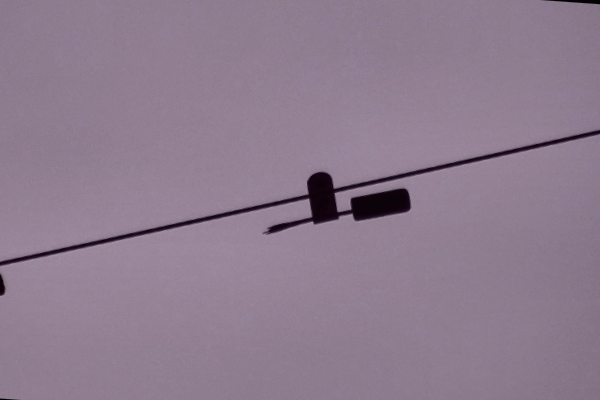damper_defect: (257, 168, 414, 238)
